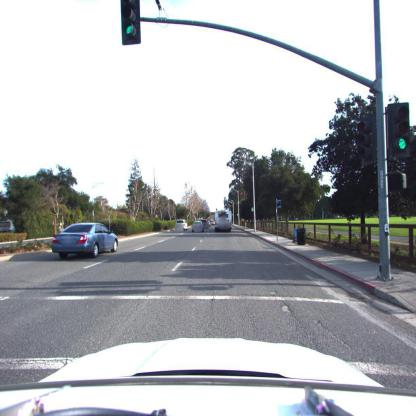car: (52, 223, 119, 258), (176, 221, 189, 232), (192, 221, 204, 232), (202, 220, 211, 230)
traffic light: (386, 103, 411, 156), (356, 117, 378, 164), (121, 1, 141, 46)
truck: (214, 210, 233, 232)
